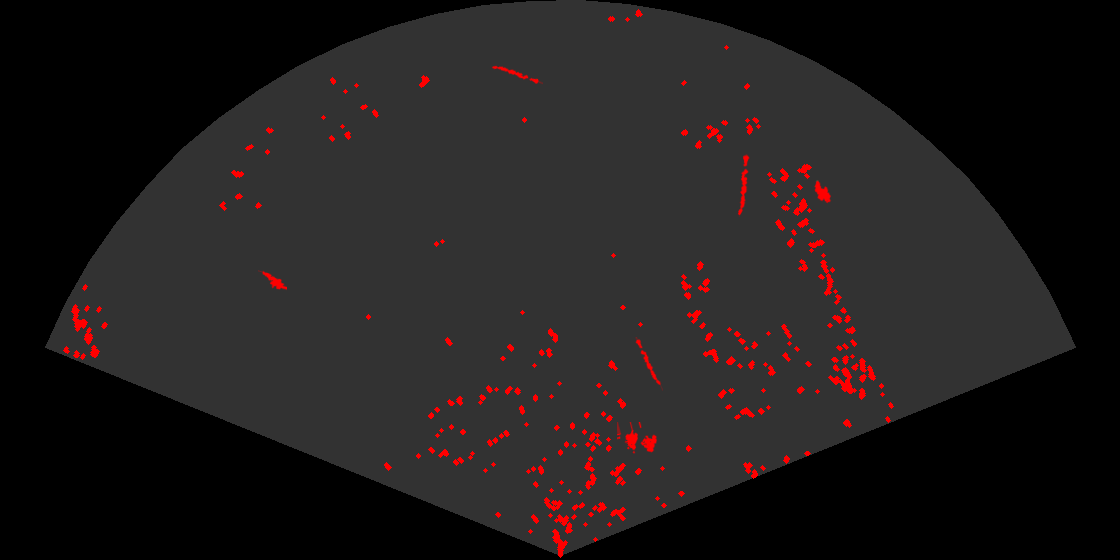AUV: (813, 179, 833, 205)
cage: (617, 422, 659, 455)
chain: (634, 337, 663, 391), (490, 64, 543, 86), (736, 154, 751, 217)
frogman: (258, 270, 287, 292)
